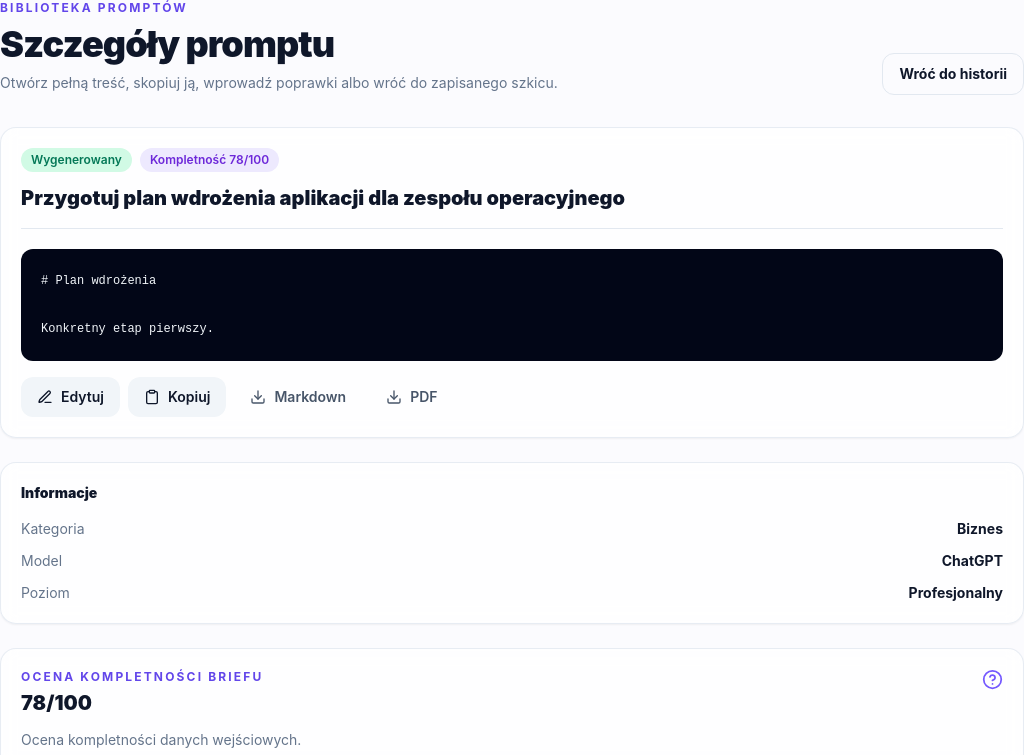
Scenario: workflow promptów › otwiera pełny prompt i kopiuje jego treść
Expected: the heading "Szczegóły promptu" is shown, 0,22 -> 334,66
Expected: the text "# Plan wdrożenia Konkretny etap pierwszy." is shown, 21,249 -> 1003,361
What coordinates should you click on to do the following:
click the button "Kopiuj"
I would click on:
 (177, 397)
Its box is 128,377 -> 226,417.
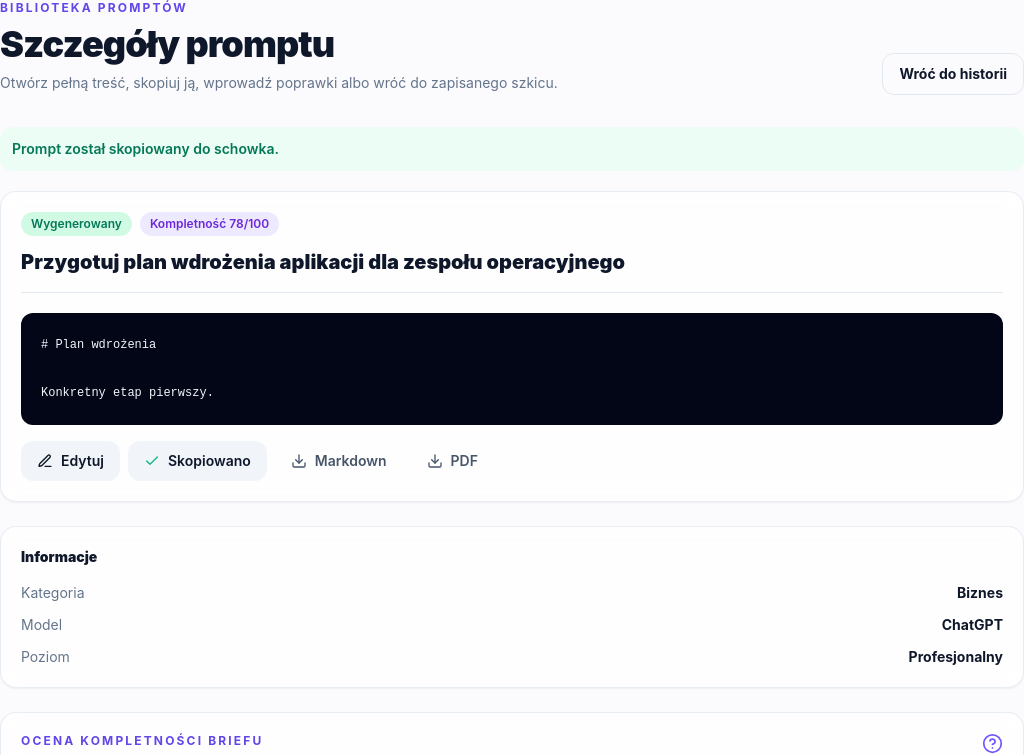
Expected: the text "Prompt został skopiowany do schowka." is shown, 0,127 -> 1023,171
